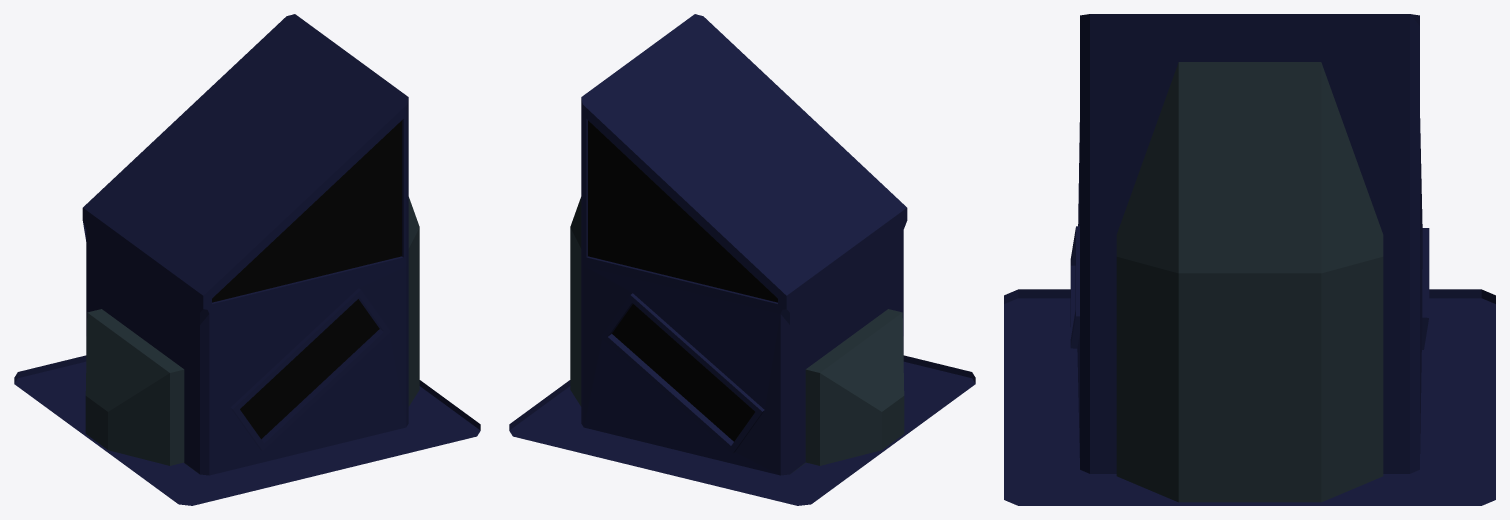
Rendered from building2.glb.
3 renders of one model, left to right at view 1: azimuth 30°, elevation 25°; view 2: azimuth 150°, elevation 25°; view 3: azimuth 270°, elevation 25°, orthographic. The views are drawn at different scales.
Parts seen in each view (by area): view 1: Cube; view 2: Cube; view 3: Cube.
Part boxes in pixels (x1,y1,x2,y2): Cube: (14,14,480,505); Cube: (509,14,975,505); Cube: (1004,14,1495,505).
Bounding box in the file's own units: 25.67 × 26.49 × 25.67.
